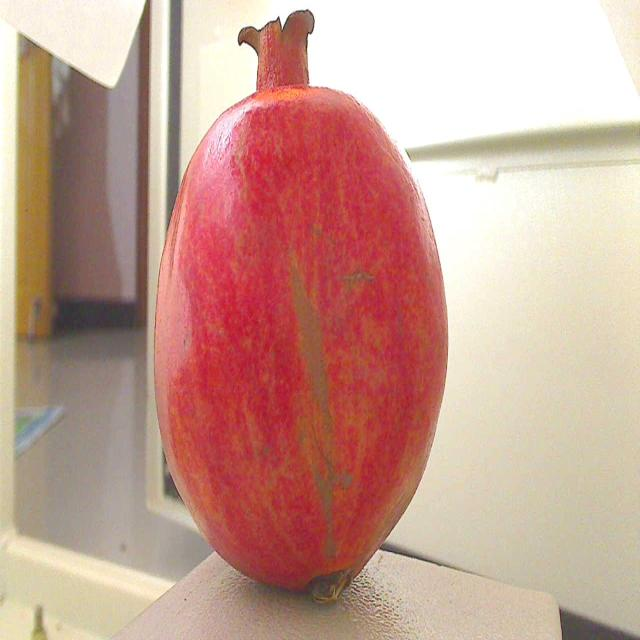pomegranate: (144, 0, 462, 632)
